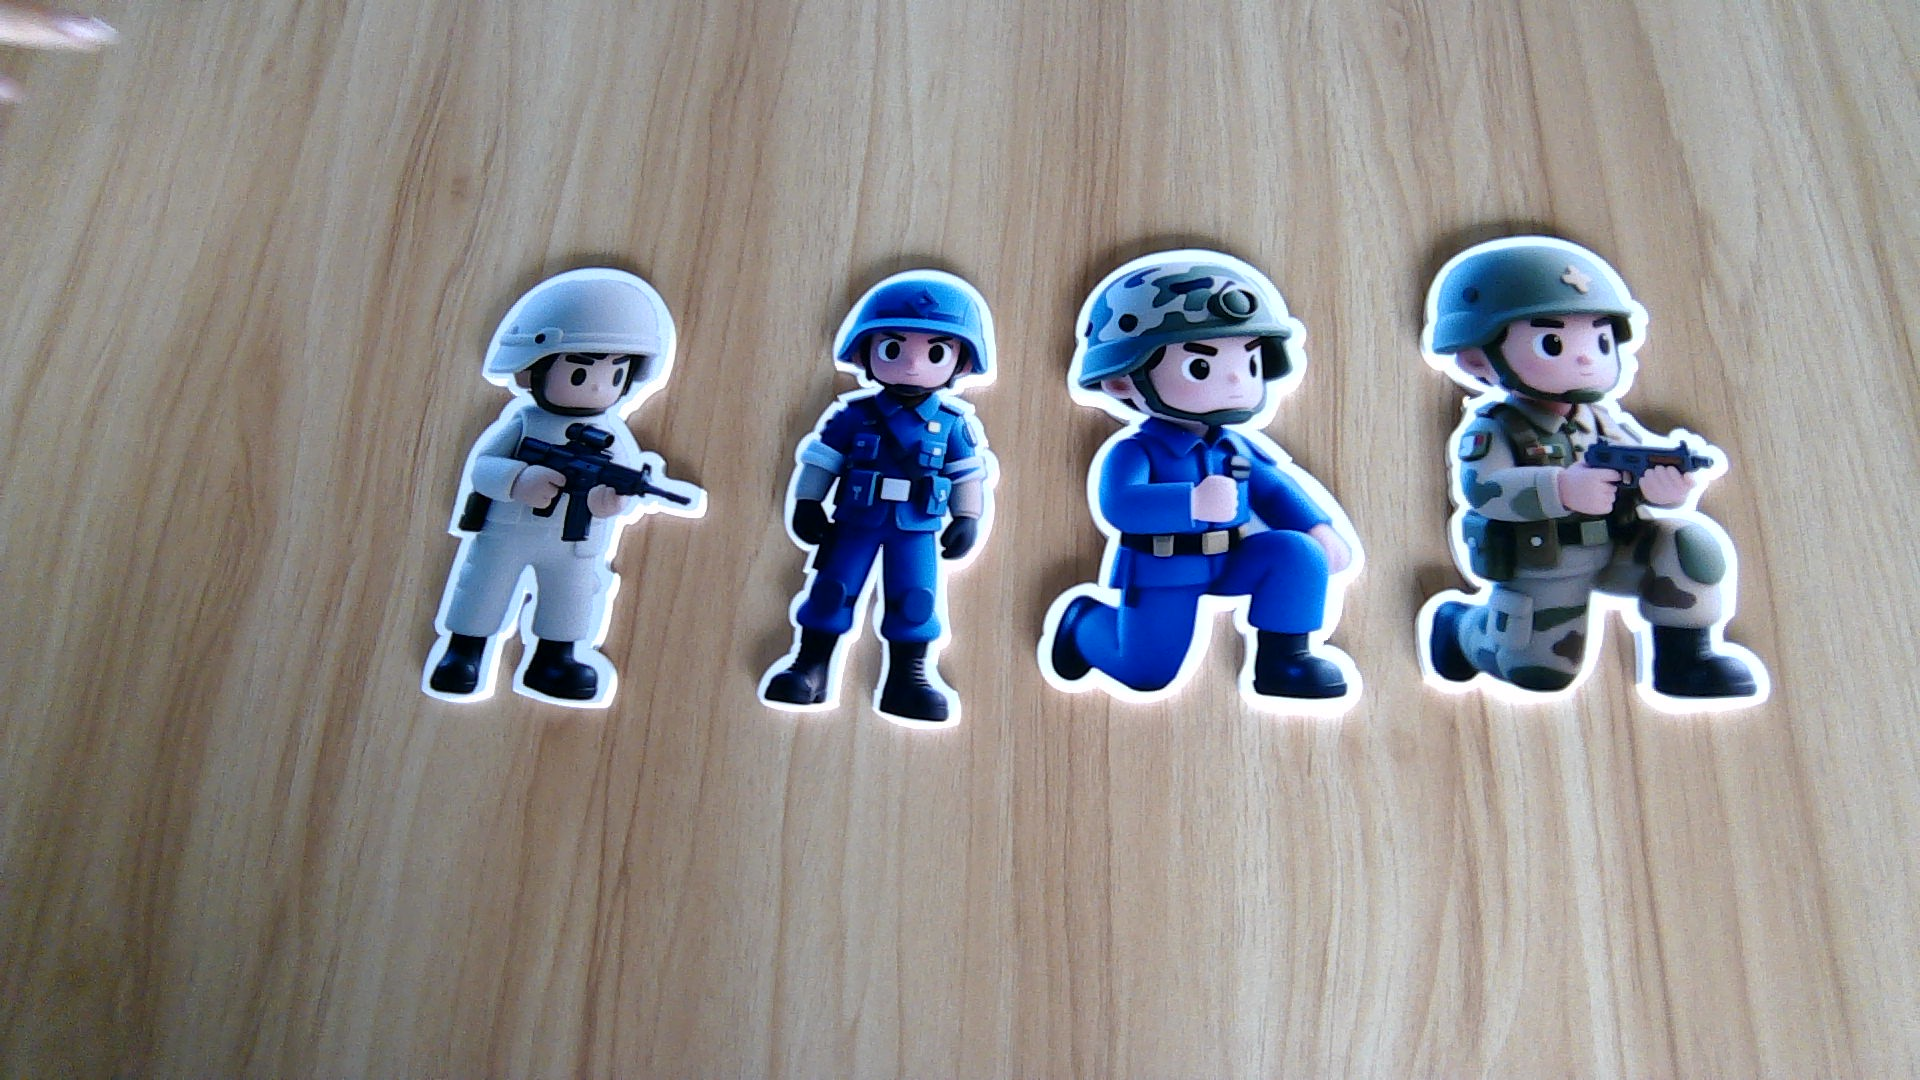人质: (418, 414, 712, 702)
友军: (1408, 400, 1778, 717)
敌人2: (1031, 423, 1370, 713), (756, 396, 1001, 729)
